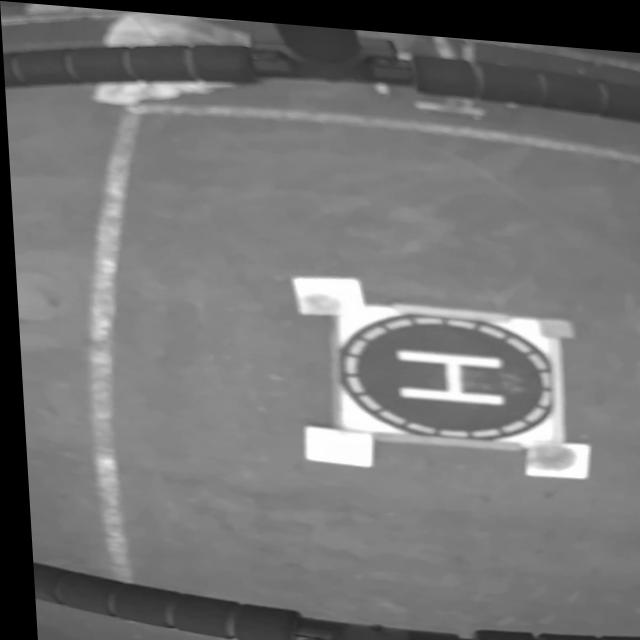Helipad: (390, 341, 501, 397)
